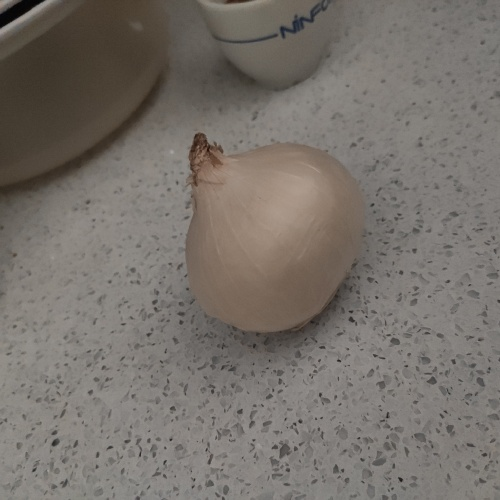cipolla: (174, 129, 378, 340)
